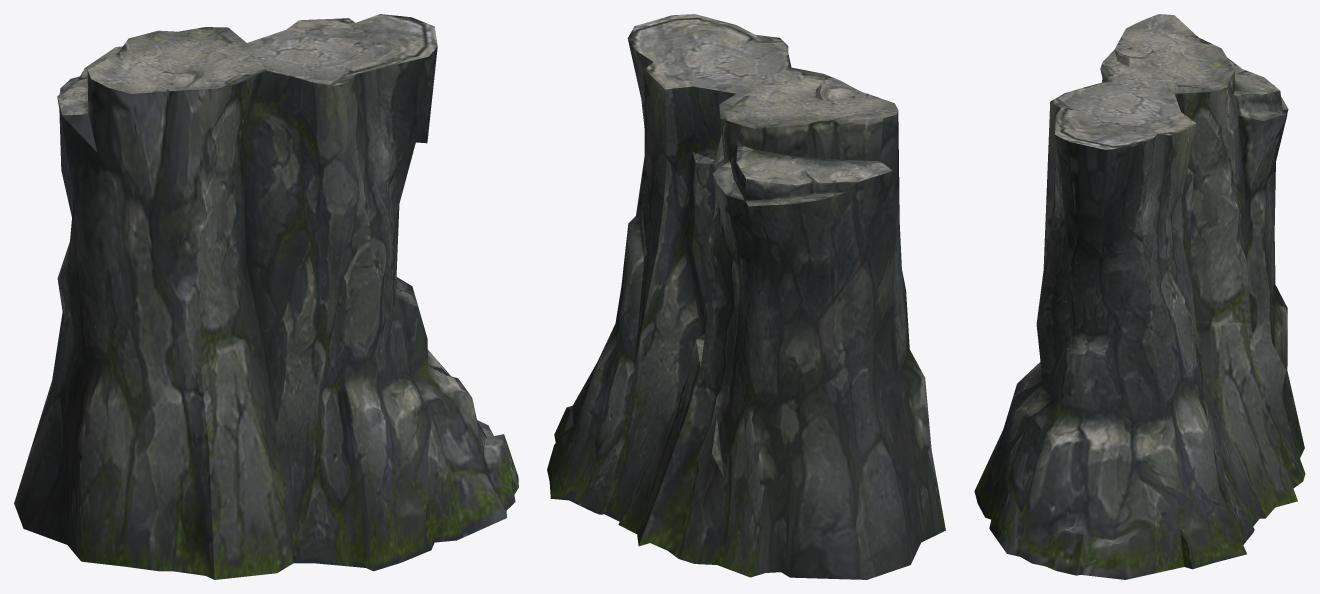
File: dx_shitou_5.FBX
3 renders of one model, left to right at view 1: azimuth 30°, elevation 25°; view 2: azimuth 150°, elevation 25°; view 3: azimuth 270°, elevation 25°, orthographic. The views are drawn at different scales.
Visible parts, largest first — view 1: dx_shitou_5; view 2: dx_shitou_5; view 3: dx_shitou_5.
Part boxes in pixels (box(x1,y1,x2,y2)): dx_shitou_5: box(14, 14, 518, 579); dx_shitou_5: box(547, 14, 945, 579); dx_shitou_5: box(974, 14, 1305, 579).
Size of the model in its own units: 1488 by 1516 by 1128.
